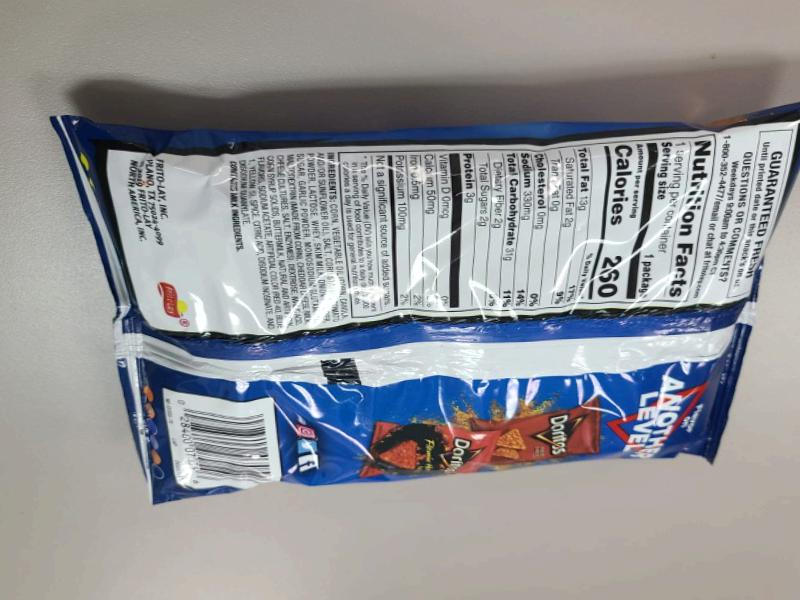doritos: (58, 120, 779, 487)
